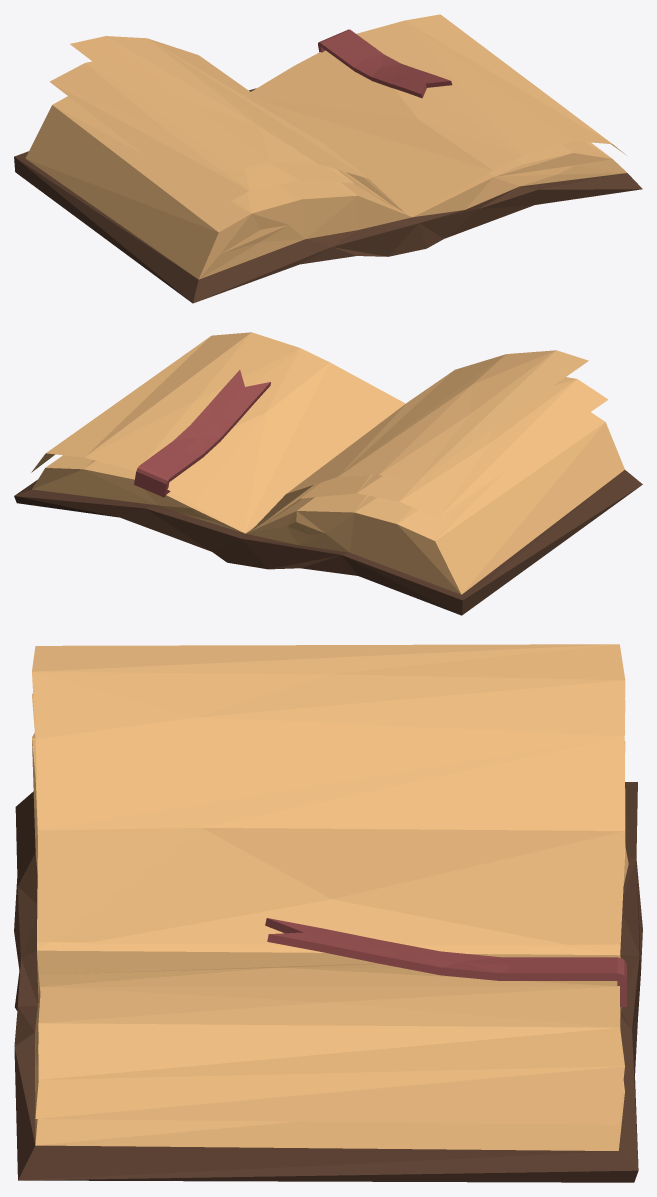
File: SFHW_Book_Opened_004.fbx
3 views of the same model, one above another, from view 1: azimuth 30°, elevation 25°; view 2: azimuth 150°, elevation 25°; view 3: azimuth 270°, elevation 25° (orthographic). The views are drawn at different scales.
Parts seen in each view (by area): view 1: SFHW_Book_Opened_004; view 2: SFHW_Book_Opened_004; view 3: SFHW_Book_Opened_004.
Boxes of the visible parts, x1,y1,x2,y2 form: SFHW_Book_Opened_004: [14, 14, 642, 303]; SFHW_Book_Opened_004: [14, 332, 642, 615]; SFHW_Book_Opened_004: [14, 644, 642, 1182].
Bounding box in the file's own units: 62.5 × 16.39 × 43.59.
